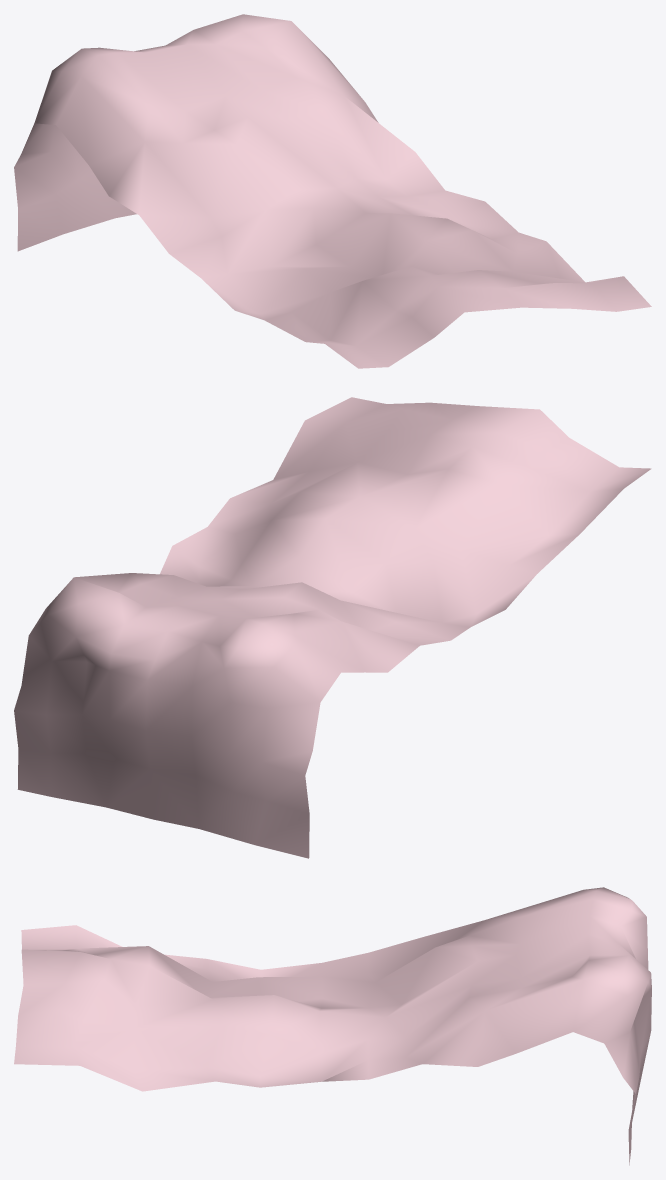
The picture shows the model from 3 angles, top to bottom: view 1: azimuth 30°, elevation 25°; view 2: azimuth 150°, elevation 25°; view 3: azimuth 270°, elevation 25°; orthographic projection. The views are drawn at different scales.
Parts seen in each view (by area): view 1: Object76; view 2: Object76; view 3: Object76.
Part boxes in pixels (x1,y1,x2,y2): Object76: (14, 14, 651, 368); Object76: (14, 397, 651, 858); Object76: (14, 887, 651, 1165).
Bounding box in the file's own units: 73208 × 45026 × 145251.
